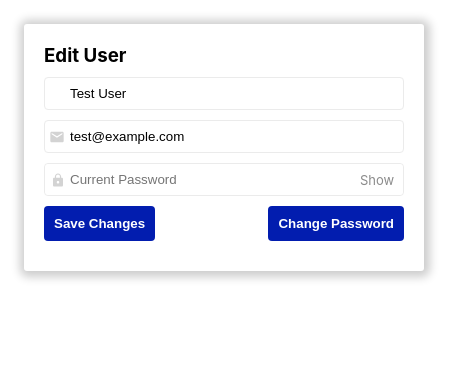
Test: EditUser › should render form password input fields with hide password button
Step 1. Click the button "Change Password" → (336, 224), box [268,206,404,241]
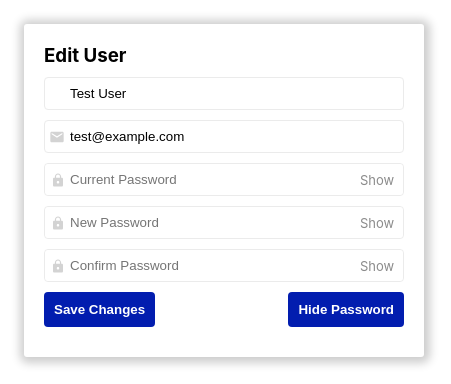
Expected: the password field named "newPassword" is shown
Expected: the password field named "confirmPassword" is shown, [45,250,403,281]
Expected: the button "Hide Password" is shown, [288,292,404,327]
Step 2. Type "12345" into the password field named "newPassword" → (224, 222), box [45,207,403,238]
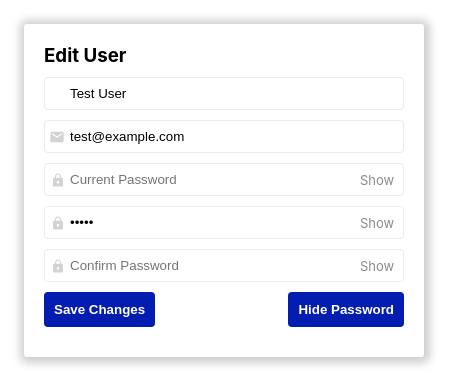
Step 3. Type "12345" into the password field named "confirmPassword" → (224, 266), box [45,250,403,281]
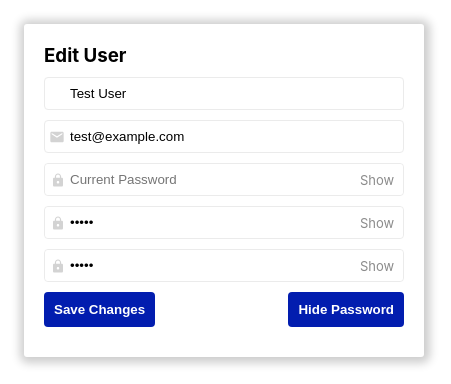
Step 4. Click the text with test id "newPasswordVisibility" → (377, 222), box [360,214,394,230]
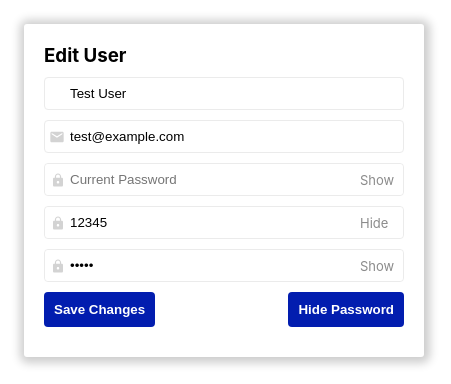
Step 5. Click the text with test id "confirmPasswordVisibility" → (377, 266), box [360,258,394,274]
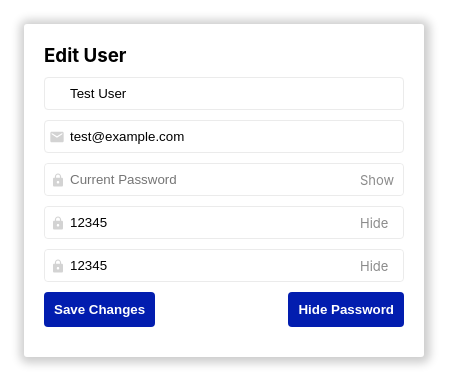
Expected: the text with test id "newPasswordVisibility" reads "Hide", [360,214,388,230]
Expected: the number of fields showing "12345" is 2, [45,207,403,238]; [45,250,403,281]
Expected: the text with test id "confirmPasswordVisibility" reads "Hide", [360,258,388,274]
